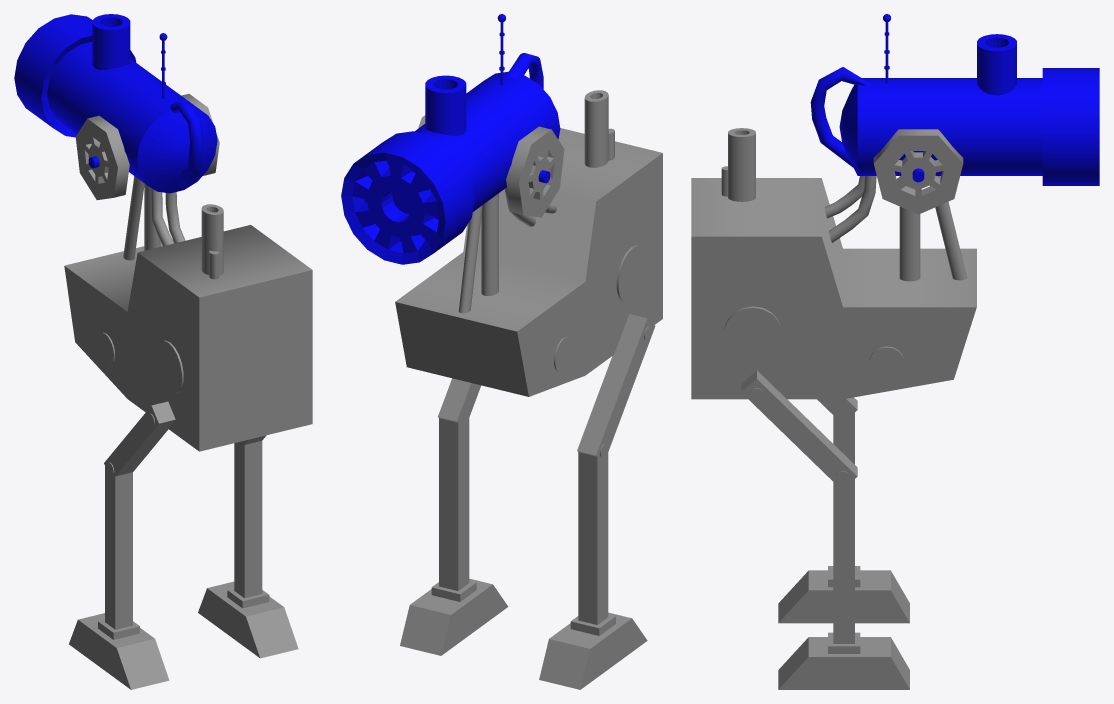
Rendered from RobotLaser.FBX.
The picture shows the model from 3 angles, left to right: view 1: azimuth 30°, elevation 25°; view 2: azimuth 150°, elevation 25°; view 3: azimuth 270°, elevation 25°; orthographic projection. The views are drawn at different scales.
Parts seen in each view (by area): view 1: Cuerpo, Cabeza, pieDerecho, pieIzquierdo, PiernaDerecha, PiernaIzquierda, Tuerca1, MusloIzquierdo; view 2: Cuerpo, Cabeza, PiernaIzquierda, PiernaDerecha, pieIzquierdo, pieDerecho, MusloIzquierdo, Tuerca1, MusloDerecho; view 3: Cuerpo, Cabeza, pieDerecho, Tuerca2, pieIzquierdo, MusloDerecho, PiernaDerecha, PiernaIzquierda.
Boxes of the visible parts, x1,y1,x2,y2 form: Cuerpo: (64,176,312,451); Cabeza: (14,14,217,193); pieDerecho: (198,581,298,658); pieIzquierdo: (69,613,169,689); PiernaDerecha: (234,441,262,598); PiernaIzquierda: (105,466,132,629); Tuerca1: (75,115,129,200); MusloIzquierdo: (104,401,175,480); Cuerpo: (395,90,662,396); Cabeza: (341,14,560,264); PiernaIzquierda: (578,448,608,624); PiernaDerecha: (439,416,469,590); pieIzquierdo: (539,612,647,689); pieDerecho: (400,578,508,655); MusloIzquierdo: (577,314,655,457); Tuerca1: (506,126,564,217); MusloDerecho: (438,378,481,428); Cuerpo: (691,128,976,399); Cabeza: (810,14,1099,185); pieDerecho: (778,632,909,689); Tuerca2: (873,129,963,214); pieIzquierdo: (778,566,909,623); MusloDerecho: (741,370,857,485); PiernaDerecha: (833,478,854,643); PiernaIzquierda: (833,411,854,464).
Bounding box in the file's own units: 18.87 × 64.39 × 37.7.
